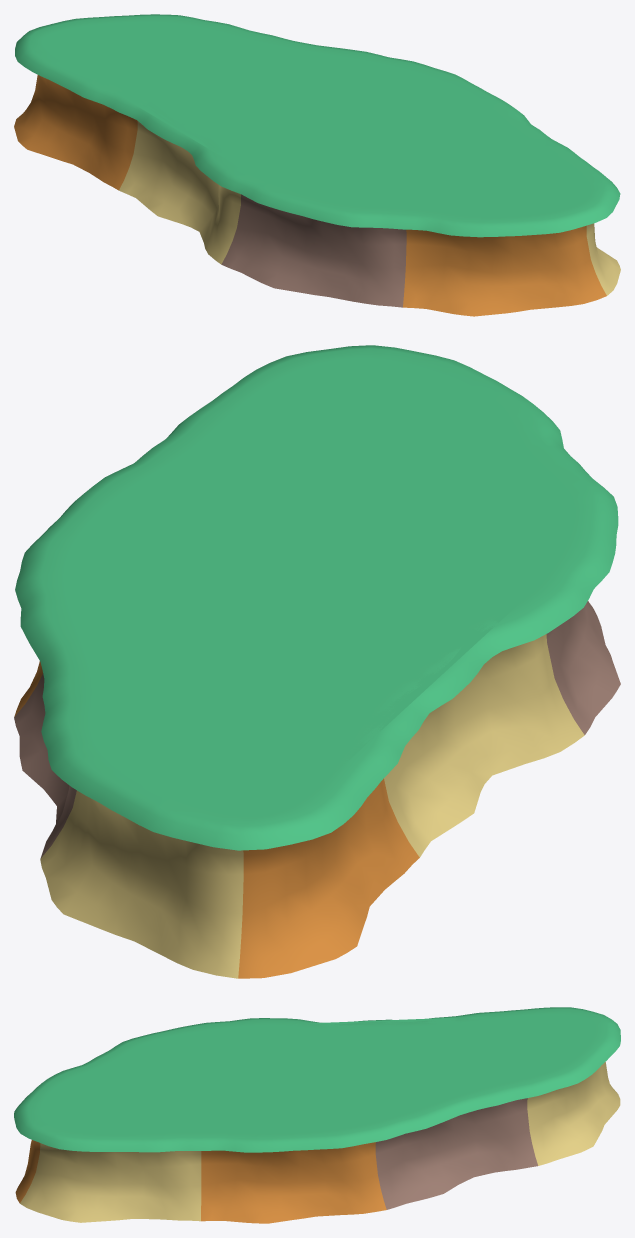
The model's file is Mod_A4_Lm2.fbx.
The picture shows the model from 3 angles, top to bottom: view 1: azimuth 30°, elevation 25°; view 2: azimuth 150°, elevation 25°; view 3: azimuth 270°, elevation 25°; orthographic projection. The views are drawn at different scales.
Parts seen in each view (by area): view 1: Mod_A4_Lm2; view 2: Mod_A4_Lm2; view 3: Mod_A4_Lm2.
Boxes of the visible parts, x1,y1,x2,y2 form: Mod_A4_Lm2: [14, 14, 620, 316]; Mod_A4_Lm2: [14, 345, 620, 978]; Mod_A4_Lm2: [14, 1007, 620, 1223].
Bounding box in the file's own units: 1783 × 442 × 3157.
